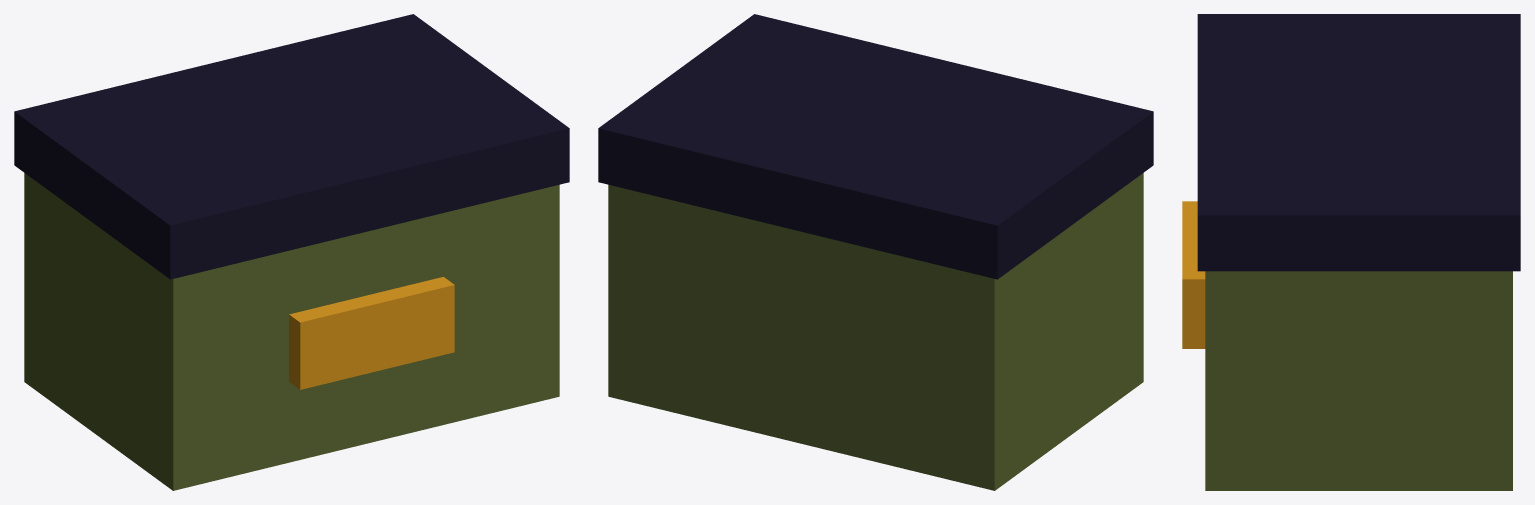
The model's file is ammo_heavy.glb.
The picture shows the model from 3 angles, left to right: view 1: azimuth 30°, elevation 25°; view 2: azimuth 150°, elevation 25°; view 3: azimuth 270°, elevation 25°; orthographic projection. The views are drawn at different scales.
Visible parts, largest first — view 1: model; view 2: model; view 3: model.
Boxes of the visible parts, left/top/right/bottom form: model: left=14, top=14, right=569, bottom=490; model: left=598, top=14, right=1153, bottom=490; model: left=1182, top=14, right=1520, bottom=490.
Size of the model in its own units: 0.31 by 0.2 by 0.22.
